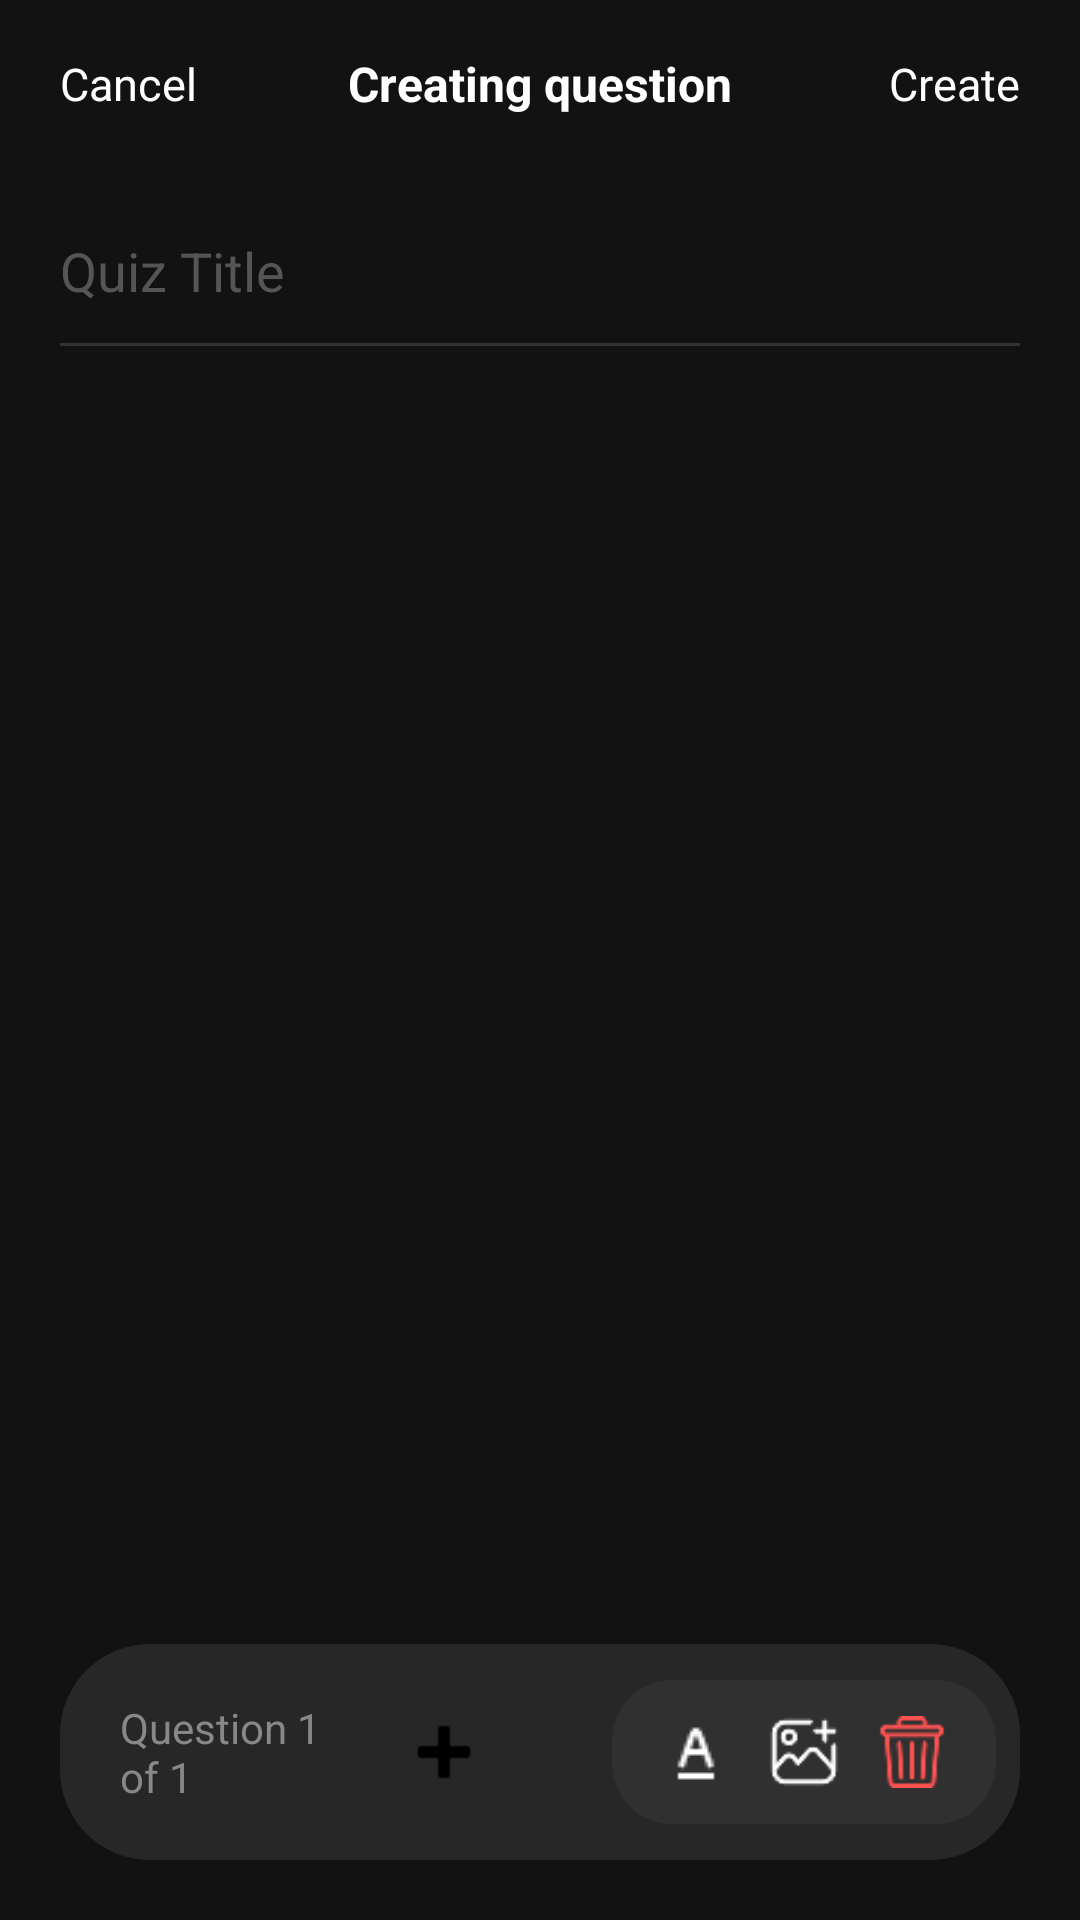

Where icons sit on this 1080*1920 app screen, as (x1,y1,x2,y2):
add: (418,1726,470,1778)
bin: (880,1716,944,1788)
